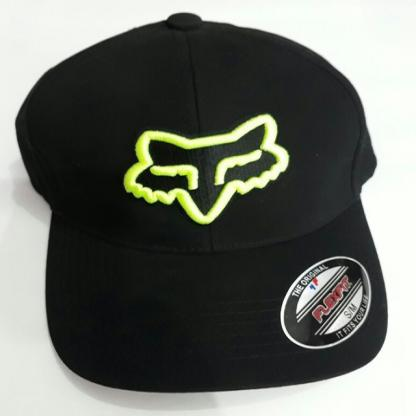cap: (15, 12, 395, 394)
